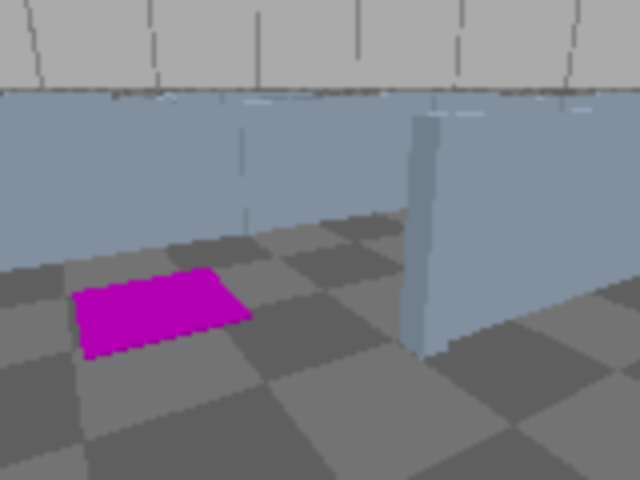goal_zone: (73, 267, 254, 360)
